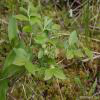Blueberry leaf: (82, 45, 95, 63), (25, 59, 37, 78), (51, 68, 67, 81), (13, 48, 28, 61), (68, 28, 77, 48), (52, 22, 62, 40), (43, 67, 54, 82), (45, 58, 60, 68), (42, 15, 52, 30), (66, 48, 76, 61), (71, 50, 86, 58), (25, 44, 33, 59), (21, 25, 33, 35), (13, 57, 26, 66), (12, 14, 27, 21), (26, 2, 32, 18)
